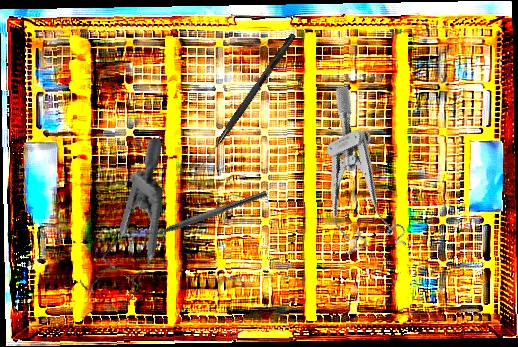Chopper: (141, 182, 268, 243)
Hook Surgical: (197, 31, 297, 173)
Speculum: (50, 137, 199, 319), (280, 83, 422, 271)
